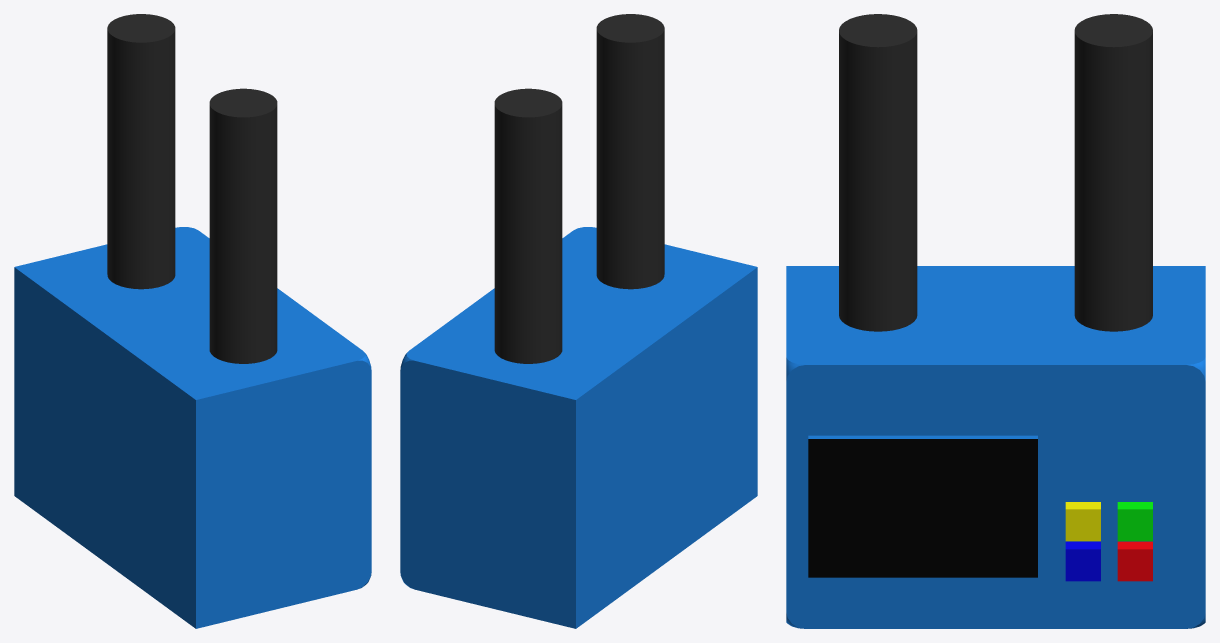
Rendered from OxygenObject.fbx.
3 renders of one model, left to right at view 1: azimuth 30°, elevation 25°; view 2: azimuth 150°, elevation 25°; view 3: azimuth 270°, elevation 25°, orthographic. The views are drawn at different scales.
Visible parts, largest first — view 1: Base, Tube, Tube.001; view 2: Base, Tube.001, Tube; view 3: Base, Screen, Tube, Tube.001, Button, Button.001, Button.002, Button.003.
Boxes of the visible parts, <box> form: Base: <box>14,227,371,628</box>; Tube: <box>209,88,277,363</box>; Tube.001: <box>107,14,175,289</box>; Base: <box>400,227,757,628</box>; Tube.001: <box>494,88,562,363</box>; Tube: <box>596,14,664,289</box>; Base: <box>786,266,1205,628</box>; Screen: <box>808,435,1037,577</box>; Tube: <box>839,14,917,331</box>; Tube.001: <box>1074,14,1152,331</box>; Button: <box>1117,541,1152,581</box>; Button.001: <box>1065,541,1100,581</box>; Button.002: <box>1117,502,1152,541</box>; Button.003: <box>1065,502,1100,541</box>.
Size of the model in its own units: 6.41 by 15.41 by 10.68.
